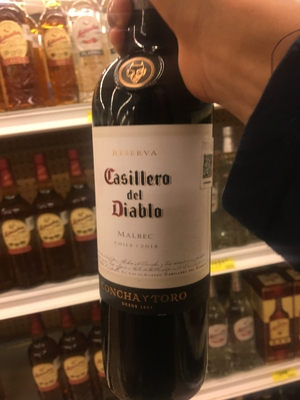casillero del diablo malbec: (80, 19, 222, 400)
